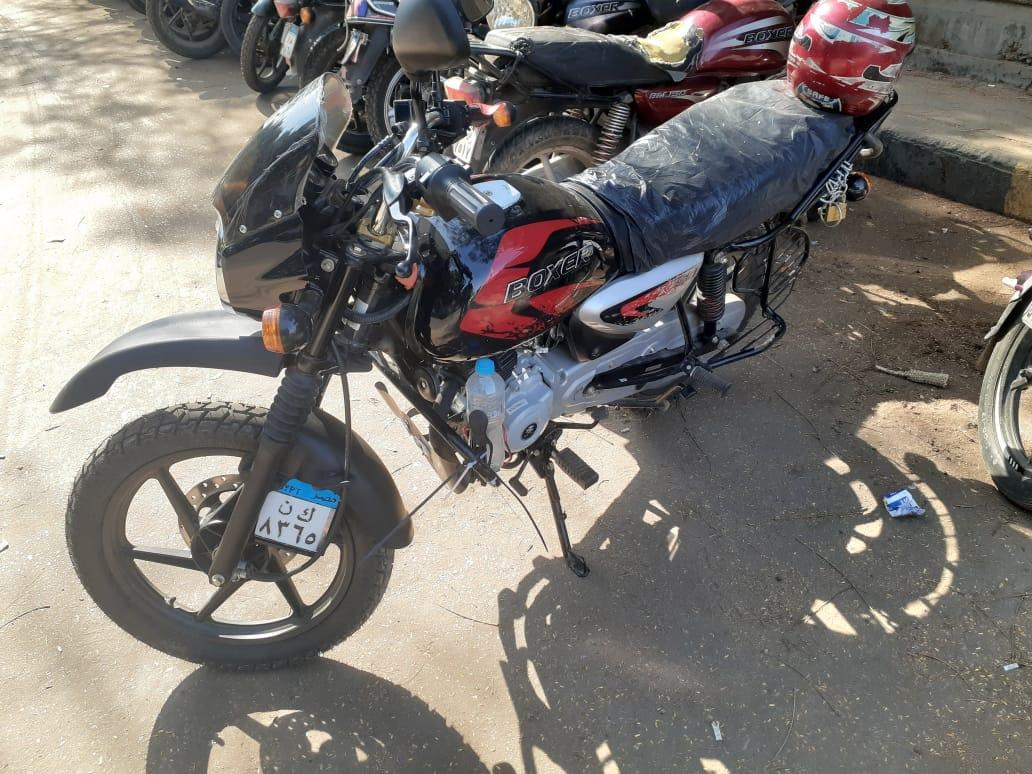License Plate: (250, 476, 348, 554)
